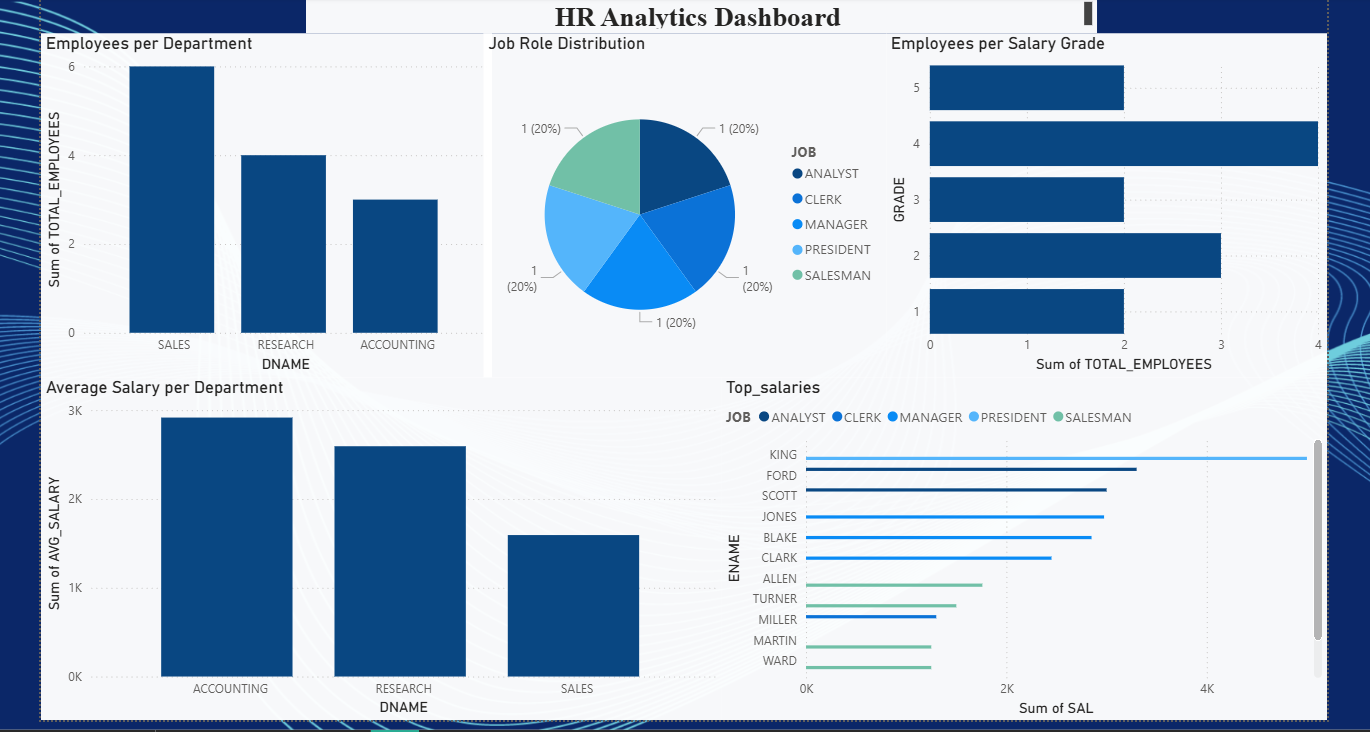

What the dashboard file says about the page in this screenshot:
{"tool":"powerbi","page":{"name":"HR Analytics Dashboard","canvas":[1280,720],"ordinal":0},"visuals":[{"type":"clusteredColumnChart","title":"Employees per Department","fields":{"Category":["Dept_Employees.DNAME"],"Y":["Sum(Dept_Employees.TOTAL_EMPLOYEES)"]},"box":[0,36.1,426.7,342.1],"z":0},{"type":"pieChart","title":"Job Role Distribution","fields":{"Category":["Job_Distribution.JOB"],"Y":["CountNonNull(Job_Distribution.TOTAL)"]},"box":[440.4,36.1,400.6,342.1],"z":1000},{"type":"clusteredColumnChart","title":"Average Salary per Department","fields":{"Category":["Dept_Avg_Salary.DNAME"],"Y":["Sum(Dept_Avg_Salary.AVG_SALARY)"]},"box":[0,378.2,639.4,342.1],"z":2000},{"type":"barChart","title":"Employees per Salary Grade","fields":{"Category":["Salary_Grade.GRADE"],"Y":["Sum(Salary_Grade.TOTAL_EMPLOYEES)"]},"box":[840.9,36.1,439.1,342.1],"z":3000},{"type":"clusteredBarChart","title":"Top_salaries","fields":{"Category":["Top_Salaries.ENAME"],"Series":["Top_Salaries.JOB"],"Y":["Sum(Top_Salaries.SAL)"]},"box":[676.7,378.2,603.3,342.1],"z":4000},{"type":"textbox","box":[263.7,0,787.4,36.1],"z":5000}]}

Visuals, with their boxes in screenshot pixels (x1, y1, x2, y2):
"Employees per Department" clusteredColumnChart: [left=36, top=33, right=463, bottom=375]
"Job Role Distribution" pieChart: [left=477, top=33, right=878, bottom=375]
"Average Salary per Department" clusteredColumnChart: [left=36, top=375, right=676, bottom=718]
"Employees per Salary Grade" barChart: [left=878, top=33, right=1318, bottom=375]
"Top_salaries" clusteredBarChart: [left=714, top=375, right=1318, bottom=718]
textbox: [left=300, top=0, right=1089, bottom=33]
